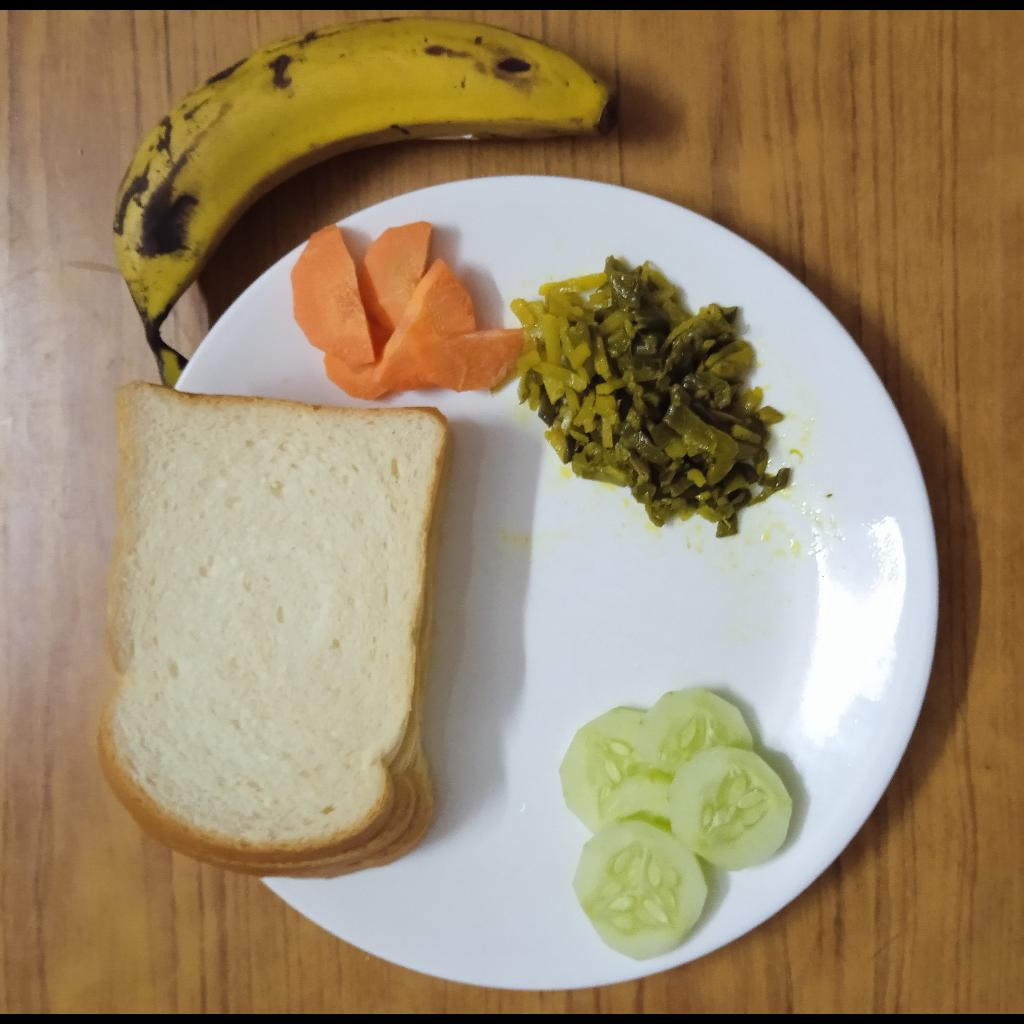banana: (111, 15, 615, 388)
bread: (97, 381, 456, 881)
carrot: (289, 221, 525, 401)
cucumber: (559, 689, 793, 961)
vegetable: (508, 257, 790, 538)
